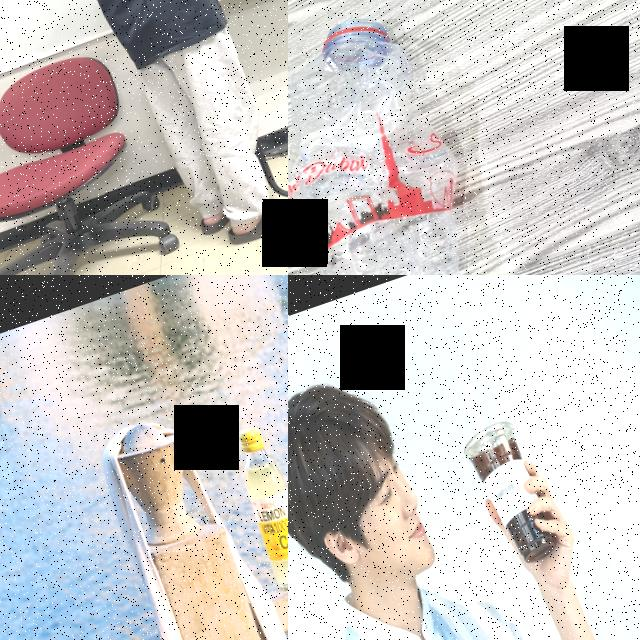bottle: (288, 0, 521, 275), (226, 425, 288, 596)
cup: (458, 414, 562, 570)
